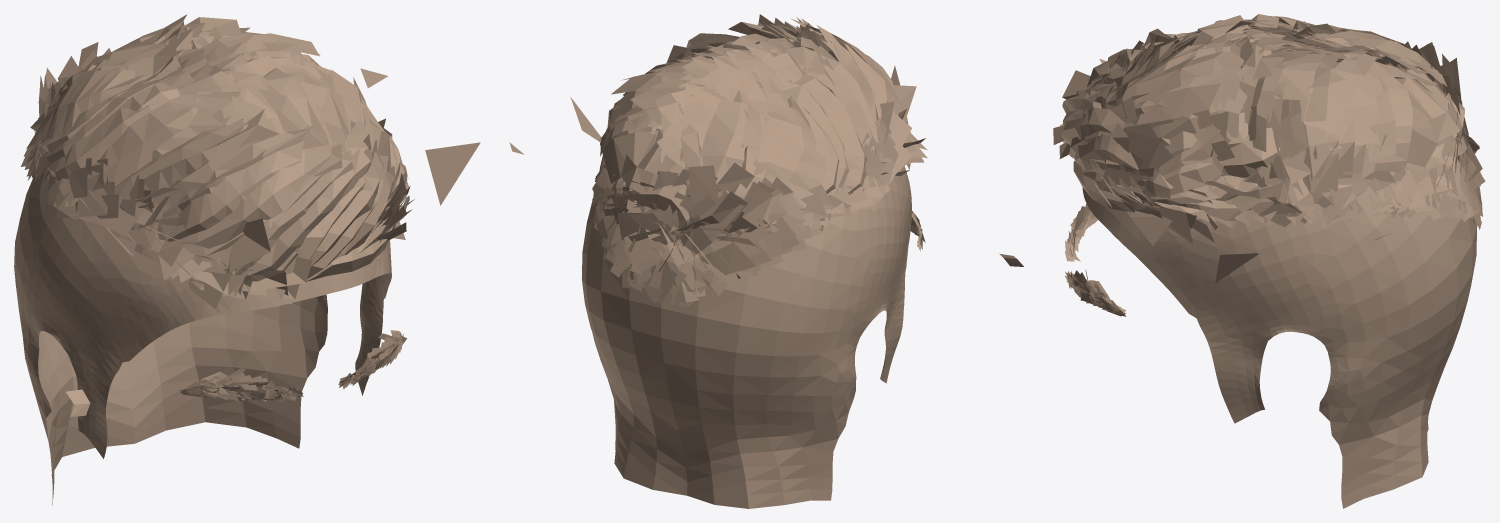
File: male_hair_06_lod0.glb
3 renders of one model, left to right at view 1: azimuth 30°, elevation 25°; view 2: azimuth 150°, elevation 25°; view 3: azimuth 270°, elevation 25°, orthographic. The views are drawn at different scales.
Visible parts, largest first — view 1: hair_06; view 2: hair_06; view 3: hair_06.
Boxes of the visible parts, box(x1,y1,x2,y2) form: hair_06: box(14, 14, 480, 505); hair_06: box(509, 14, 1023, 508); hair_06: box(1053, 14, 1485, 508).
Size of the model in its own units: 0.2127 by 0.1978 by 0.1813.
